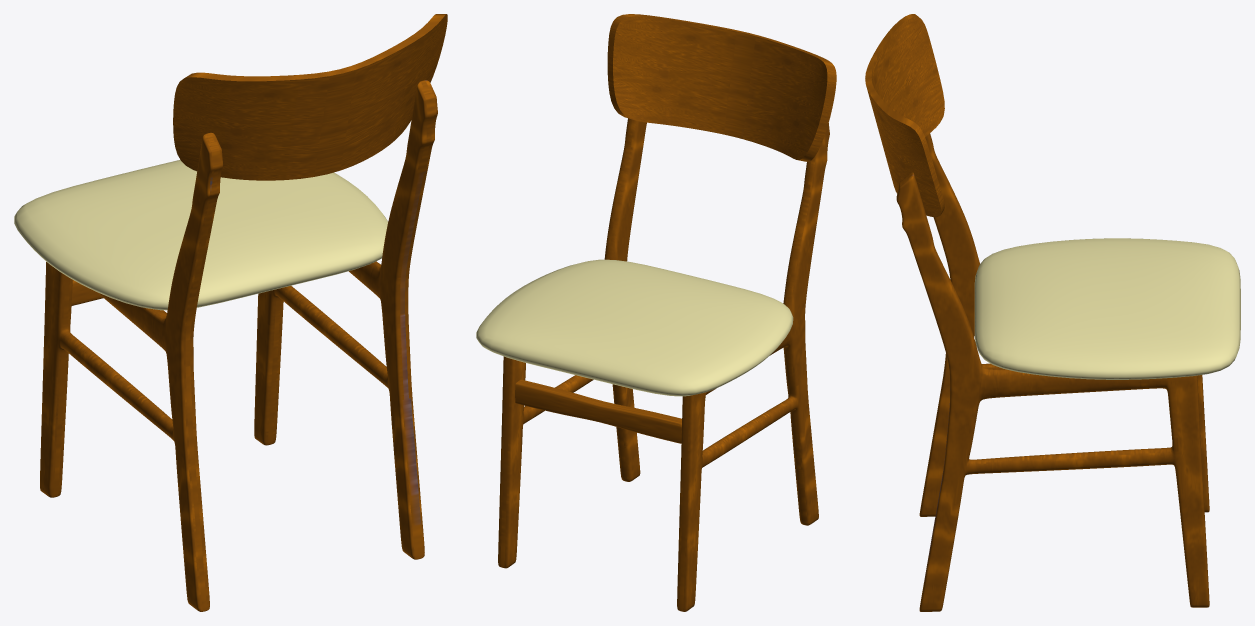
The picture shows the model from 3 angles, left to right: view 1: azimuth 30°, elevation 25°; view 2: azimuth 150°, elevation 25°; view 3: azimuth 270°, elevation 25°; orthographic projection. The views are drawn at different scales.
Visible parts, largest first — view 1: Cube.004_Cube.001; view 2: Cube.004_Cube.001; view 3: Cube.004_Cube.001.
Part boxes in pixels (bbox=[...]): Cube.004_Cube.001: bbox=[14, 14, 447, 611]; Cube.004_Cube.001: bbox=[476, 14, 836, 611]; Cube.004_Cube.001: bbox=[865, 14, 1240, 611].
Size of the model in its own units: 4.45 by 7.58 by 5.23.
2 materials, 1 textured.
